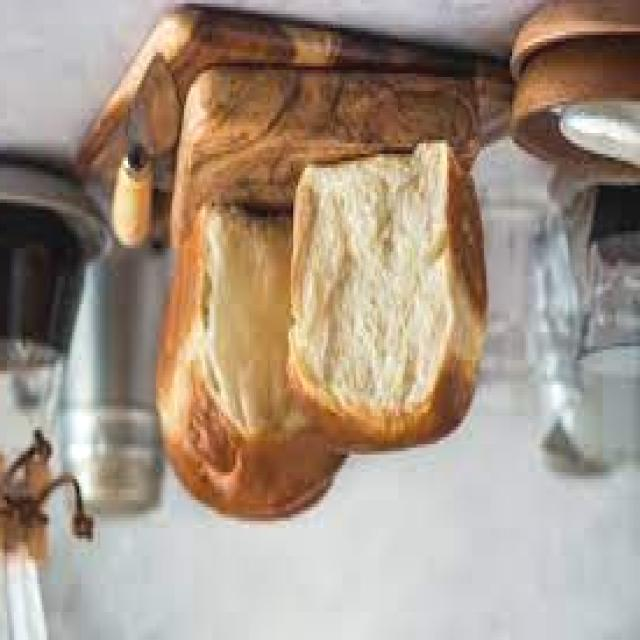roti tawar: (291, 136, 489, 451)
